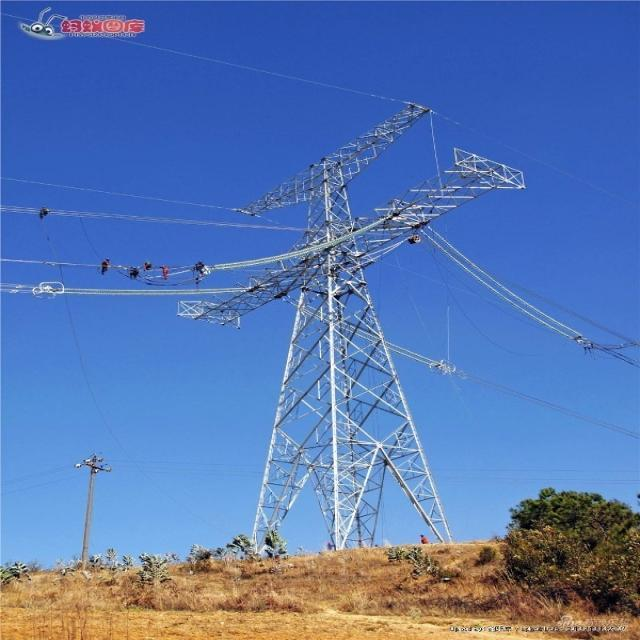non-critical vegetation: (180, 92, 552, 566)
